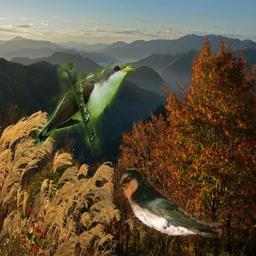Cuckoo: (21, 63, 135, 157)
Swallow: (118, 170, 222, 238)
